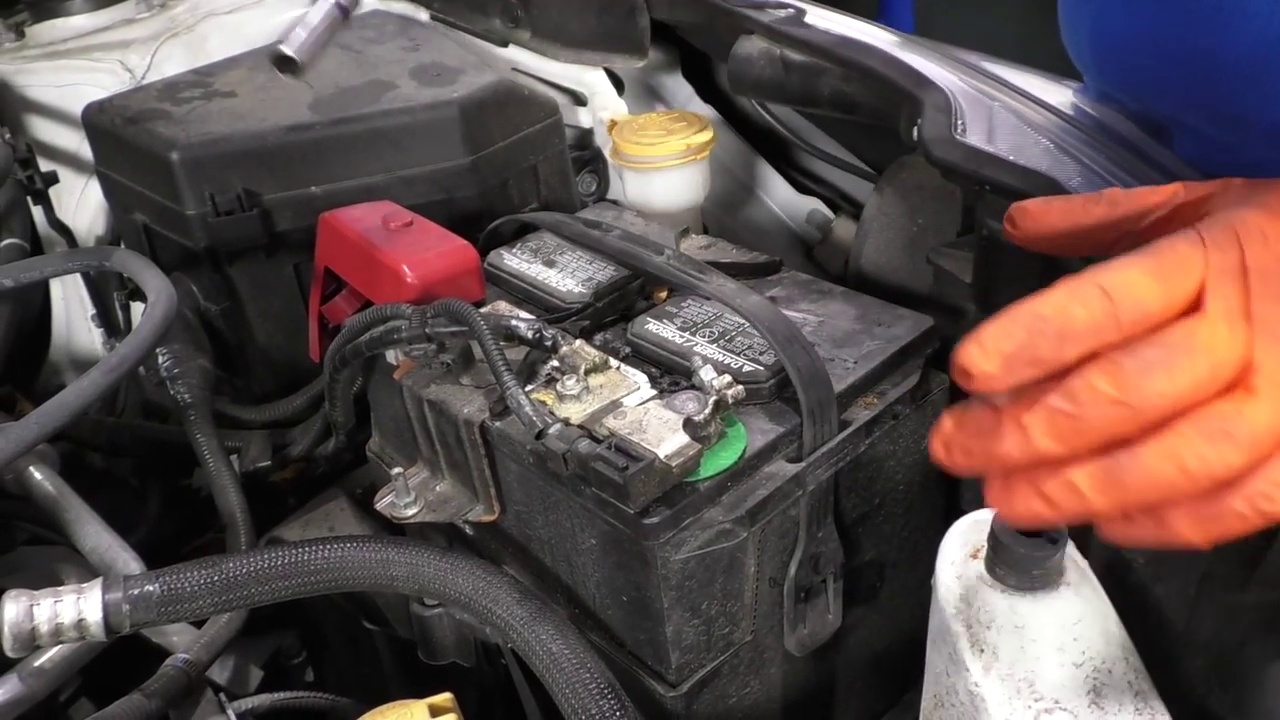battery: (308, 188, 927, 513)
neg_connected: (605, 363, 768, 501)
pos_connected: (315, 196, 490, 381)
